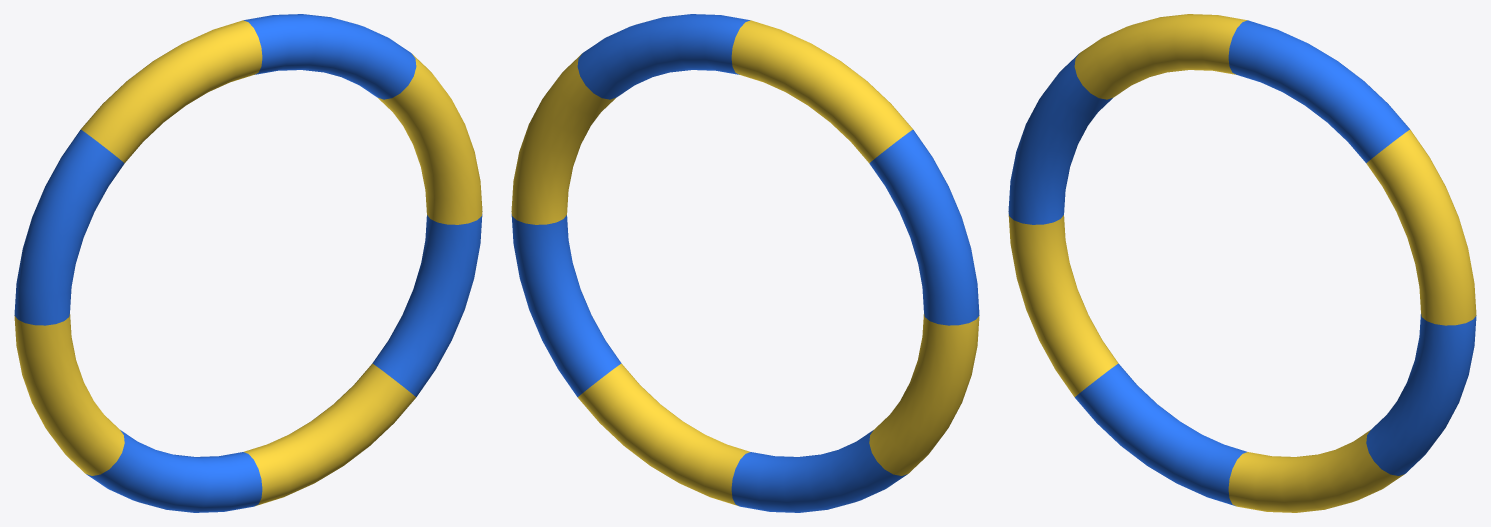
File: hoop_3.glb
3 renders of one model, left to right at view 1: azimuth 30°, elevation 25°; view 2: azimuth 150°, elevation 25°; view 3: azimuth 330°, elevation 25°, orthographic.
Visible parts, largest first — view 1: hoop_3; view 2: hoop_3; view 3: hoop_3.
Boxes of the visible parts, x1=… form: hoop_3: x1=14, y1=14, x2=482, y2=512; hoop_3: x1=511, y1=14, x2=979, y2=512; hoop_3: x1=1008, y1=14, x2=1476, y2=512.
Size of the model in its own units: 3.8 by 3.8 by 0.4.
Materials: 1 (1 with a texture image).
